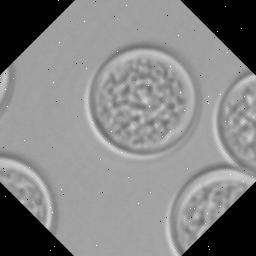picoshell: (83, 43, 200, 162), (165, 163, 256, 256), (211, 66, 256, 172), (0, 155, 56, 234), (0, 63, 13, 115)
